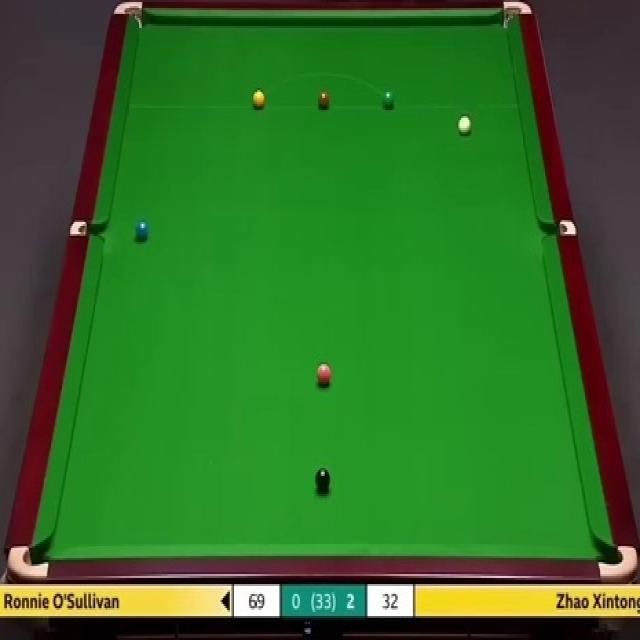black-ball: (315, 467, 331, 493)
blue-ball: (134, 218, 150, 241)
brown-ball: (317, 92, 330, 109)
green-ball: (382, 88, 396, 112)
pink-ball: (316, 362, 332, 389)
white-ball: (458, 113, 472, 135)
yellow-ball: (252, 89, 266, 110)
